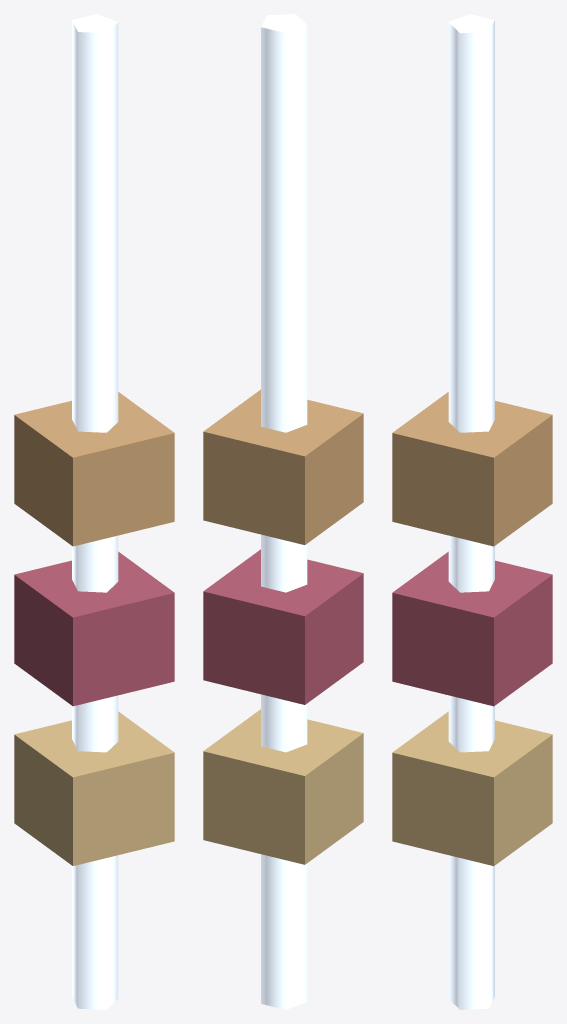
Rendered from sis.glb.
The picture shows the model from 3 angles, left to right: view 1: azimuth 30°, elevation 25°; view 2: azimuth 150°, elevation 25°; view 3: azimuth 330°, elevation 25°; orthographic projection.
Bounding box in the file's own units: 0.12 × 1.1 × 0.12.
